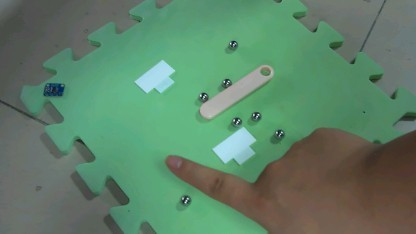ironball: (175, 194, 194, 208), (271, 127, 285, 141), (217, 76, 233, 88), (194, 90, 209, 102), (225, 38, 240, 50), (249, 110, 263, 122), (229, 115, 242, 125)
